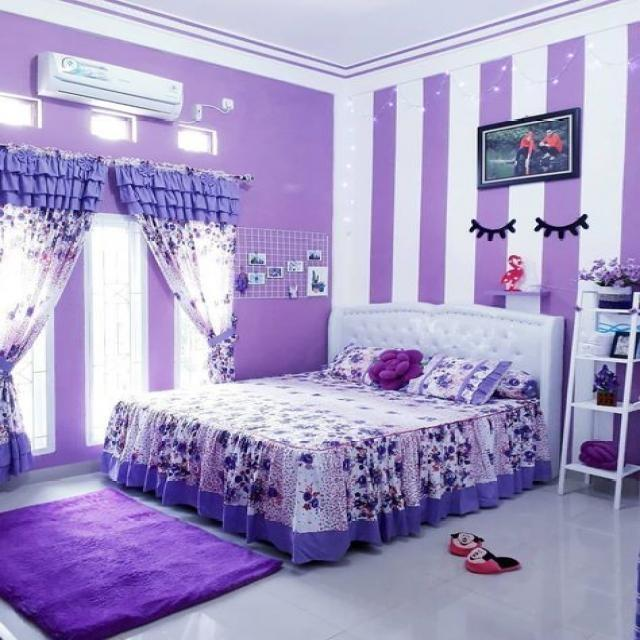AC: (35, 50, 183, 122)
